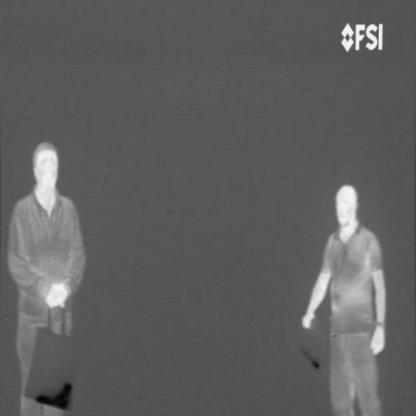weapon: (33, 380, 76, 412)
